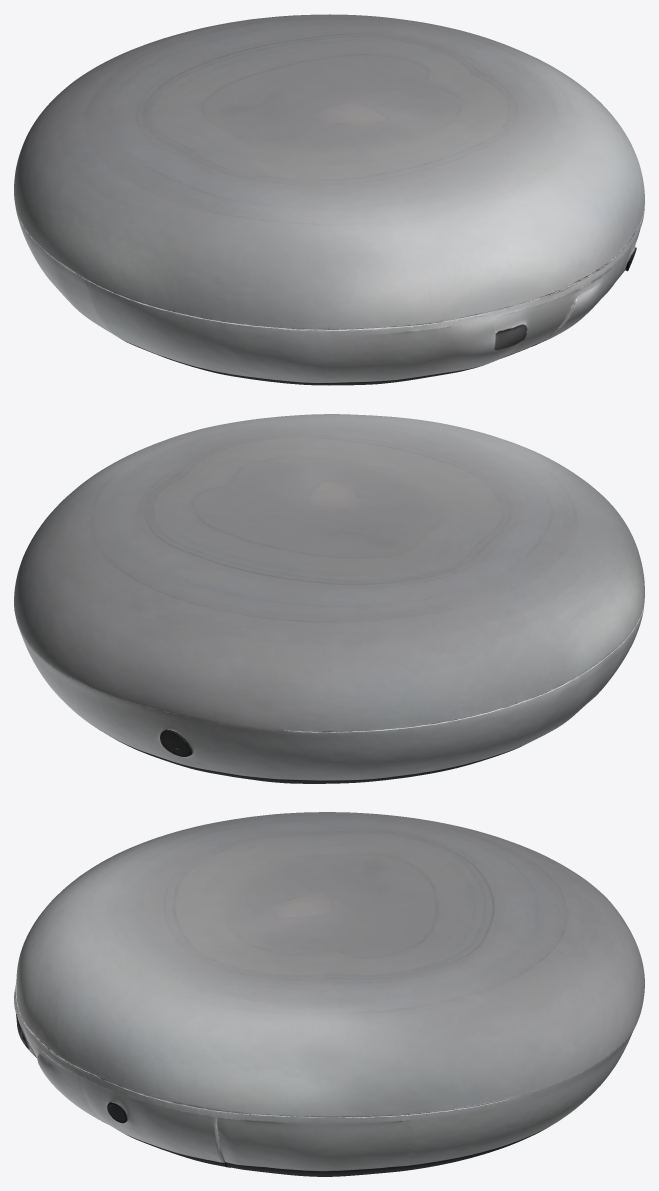
Rendered from portal-base.glb.
3 renders of one model, top to bottom at view 1: azimuth 30°, elevation 25°; view 2: azimuth 150°, elevation 25°; view 3: azimuth 270°, elevation 25°, orthographic.
Parts seen in each view (by area): view 1: model; view 2: model; view 3: model.
Part boxes in pixels (box(x1,y1,x2,y2)): model: box(14, 14, 644, 385); model: box(14, 414, 644, 783); model: box(14, 812, 644, 1176).
Bounding box in the file's own units: 1.84 × 0.6163 × 1.9.
Materials: 1 (1 with a texture image).
